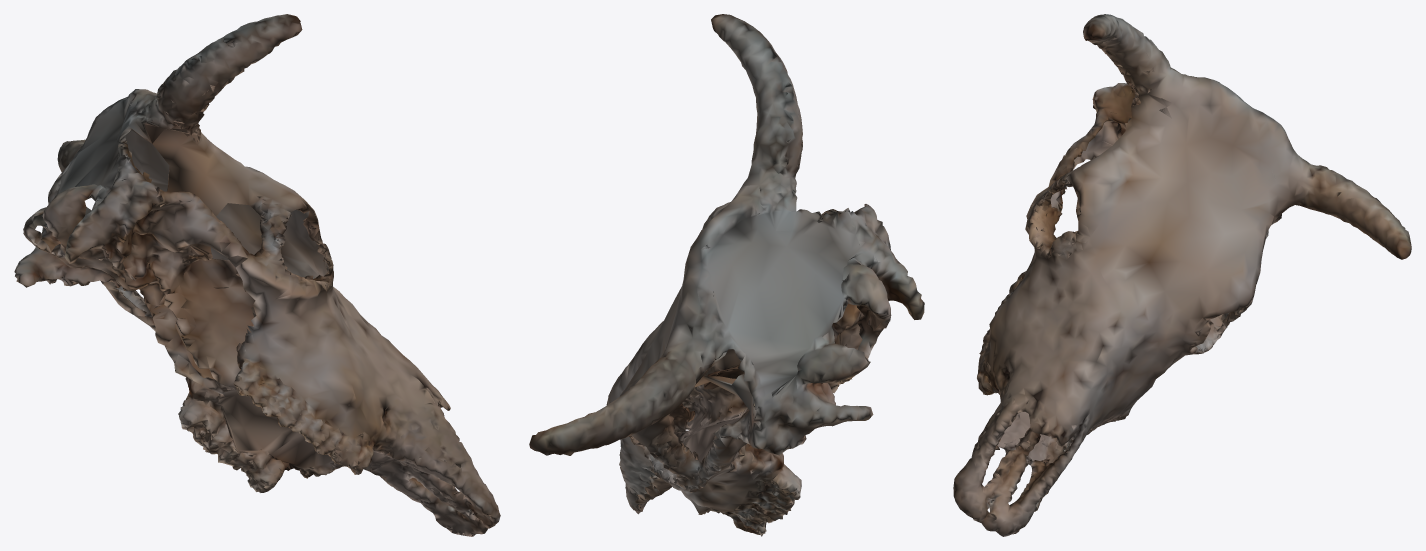
The model's file is 3final_fixed_cow_skull.fbx.
3 views of the same model, side by side, from view 1: azimuth 30°, elevation 25°; view 2: azimuth 150°, elevation 25°; view 3: azimuth 270°, elevation 25° (orthographic). The views are drawn at different scales.
Parts seen in each view (by area): view 1: final_fixed_cow_skull; view 2: final_fixed_cow_skull; view 3: final_fixed_cow_skull.
Part boxes in pixels (box(x1,y1,x2,y2)): final_fixed_cow_skull: box(14, 14, 500, 536); final_fixed_cow_skull: box(529, 14, 924, 536); final_fixed_cow_skull: box(953, 14, 1411, 536).
Bounding box in the file's own units: 4632 × 6682 × 6079.
